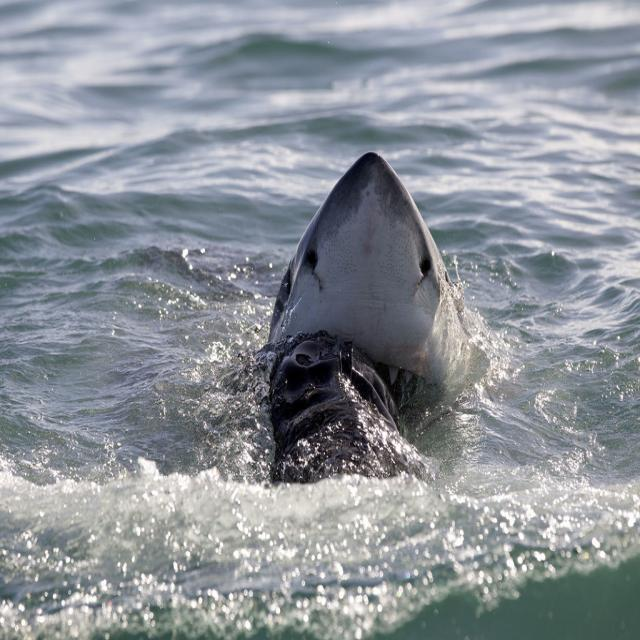Shark: (260, 150, 472, 417)
